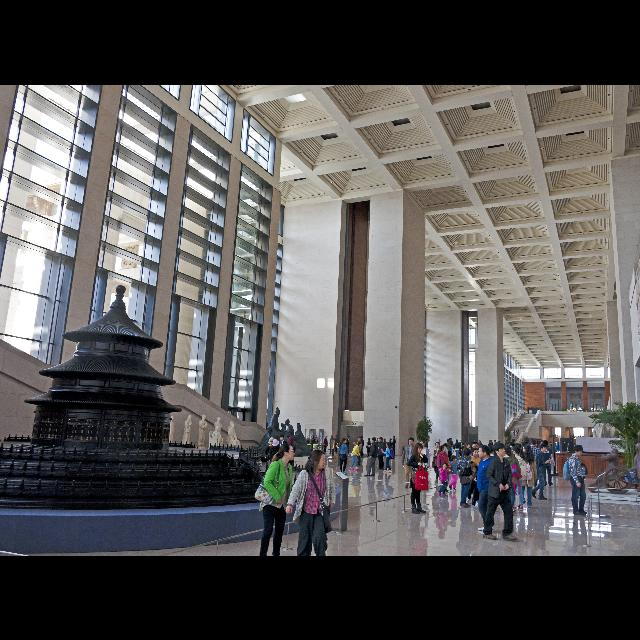head: (310, 448, 326, 468), (280, 442, 294, 460), (494, 441, 506, 455), (573, 444, 583, 456), (415, 442, 423, 452), (512, 444, 520, 454), (540, 442, 548, 452), (464, 448, 472, 457), (472, 448, 480, 457), (472, 442, 480, 451), (504, 444, 511, 454), (523, 443, 531, 451), (488, 444, 494, 454), (439, 444, 446, 452), (509, 442, 516, 448), (288, 436, 294, 442), (408, 438, 414, 444), (442, 462, 448, 468), (451, 455, 457, 461), (442, 442, 448, 448), (531, 439, 537, 445), (420, 439, 424, 446), (270, 437, 274, 443), (280, 434, 284, 440), (341, 438, 347, 442), (358, 440, 362, 446), (372, 436, 376, 442), (436, 441, 440, 447), (464, 442, 470, 446), (544, 439, 548, 445), (273, 440, 277, 444), (358, 436, 362, 440), (386, 441, 390, 445), (361, 434, 364, 438), (426, 437, 429, 441), (446, 438, 449, 442), (448, 436, 452, 439), (313, 434, 315, 438), (325, 434, 327, 438), (331, 434, 333, 438), (335, 434, 337, 438), (348, 434, 350, 438), (393, 434, 395, 438), (456, 438, 458, 442), (461, 438, 463, 442), (512, 438, 514, 442), (376, 436, 378, 439), (315, 436, 317, 438), (368, 438, 370, 440), (384, 438, 386, 440), (389, 438, 391, 440), (474, 439, 476, 441), (479, 440, 481, 442), (490, 440, 492, 442), (490, 439, 492, 441), (494, 439, 496, 441), (440, 438, 440, 438), (514, 430, 516, 430), (518, 428, 518, 429)
person: (482, 440, 518, 540), (562, 443, 590, 515), (496, 444, 524, 512), (407, 441, 429, 514), (530, 442, 554, 500), (518, 444, 538, 508), (464, 446, 486, 504), (508, 443, 526, 511), (466, 440, 486, 496), (456, 447, 474, 508), (482, 443, 500, 503), (400, 436, 418, 488), (538, 438, 556, 486), (526, 438, 542, 488), (265, 438, 283, 474), (416, 439, 430, 485), (432, 441, 446, 484), (264, 436, 280, 472), (437, 444, 449, 492), (364, 436, 378, 476), (446, 454, 460, 492), (380, 441, 396, 473), (437, 461, 451, 497), (284, 436, 296, 474), (276, 432, 288, 470), (338, 436, 350, 474), (349, 440, 363, 470), (439, 442, 449, 476), (462, 442, 472, 476), (353, 434, 363, 466), (507, 442, 518, 470), (356, 434, 366, 456), (453, 438, 463, 460), (508, 438, 518, 460), (446, 436, 454, 462), (424, 436, 431, 462), (328, 434, 336, 454), (344, 434, 352, 454), (386, 436, 394, 456), (447, 437, 455, 457), (389, 434, 396, 456), (458, 438, 466, 457), (308, 434, 316, 450), (312, 435, 320, 451), (323, 434, 329, 454), (334, 433, 340, 453), (366, 436, 372, 456), (374, 436, 380, 456), (382, 436, 388, 456), (472, 438, 478, 452), (477, 438, 483, 452), (488, 438, 492, 454), (436, 437, 442, 447), (494, 438, 498, 450), (490, 438, 494, 449), (516, 428, 520, 436), (514, 428, 516, 436)
